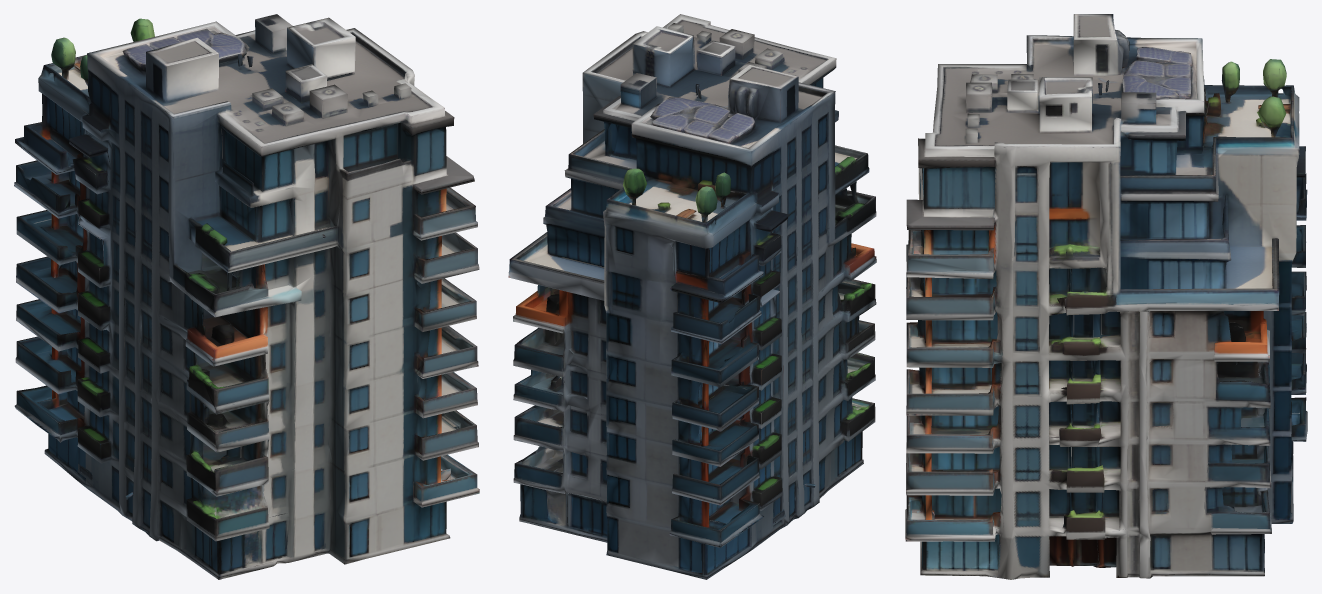
The model's file is apartment_block.glb.
3 views of the same model, side by side, from view 1: azimuth 30°, elevation 25°; view 2: azimuth 150°, elevation 25°; view 3: azimuth 270°, elevation 25° (orthographic). The views are drawn at different scales.
Visible parts, largest first — view 1: world; view 2: world; view 3: world.
Boxes of the visible parts, <box> form: world: <box>14,14,479,579</box>; world: <box>508,14,876,579</box>; world: <box>905,14,1307,579</box>.
Bounding box in the file's own units: 0.5986 × 1 × 0.7904.
1 material, 1 textured.
